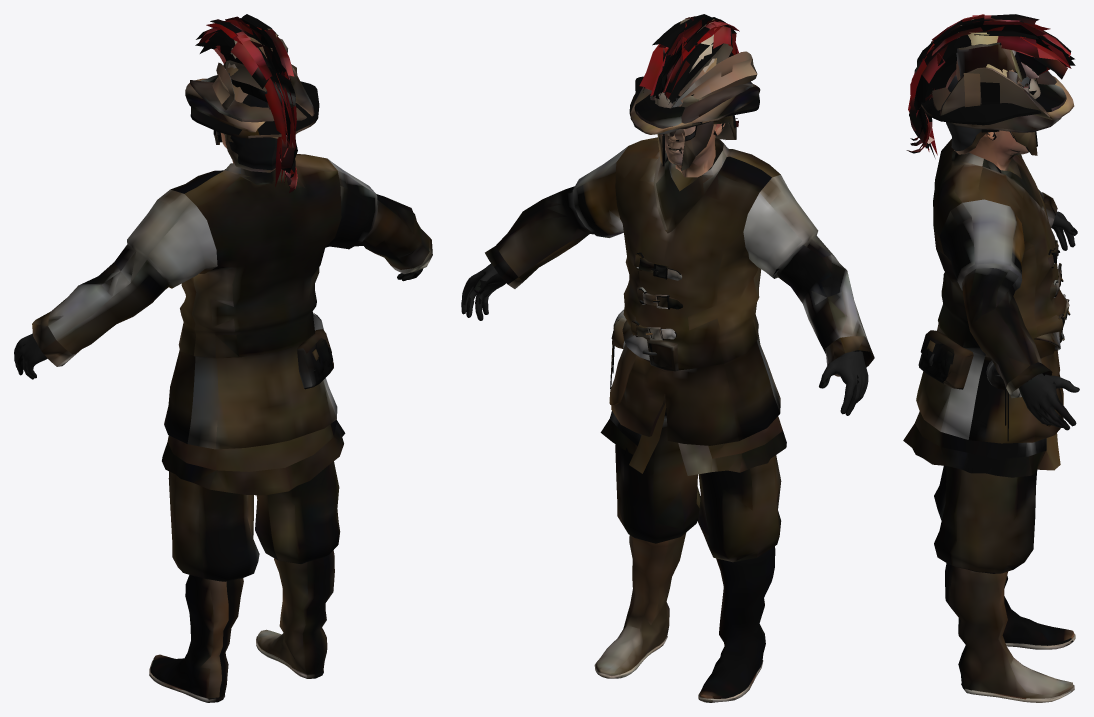
3 views of the same model, side by side, from view 1: azimuth 30°, elevation 25°; view 2: azimuth 150°, elevation 25°; view 3: azimuth 270°, elevation 25° (orthographic). The views are drawn at different scales.
Visible parts, largest first — view 1: mesh_0; view 2: mesh_0; view 3: mesh_0.
Part boxes in pixels (x1,y1,x2,y2): mesh_0: (14, 14, 432, 702); mesh_0: (461, 14, 874, 702); mesh_0: (903, 14, 1079, 702).
Size of the model in its own units: 49.96 by 78.02 by 19.2.
Materials: 1 (1 with a texture image).
